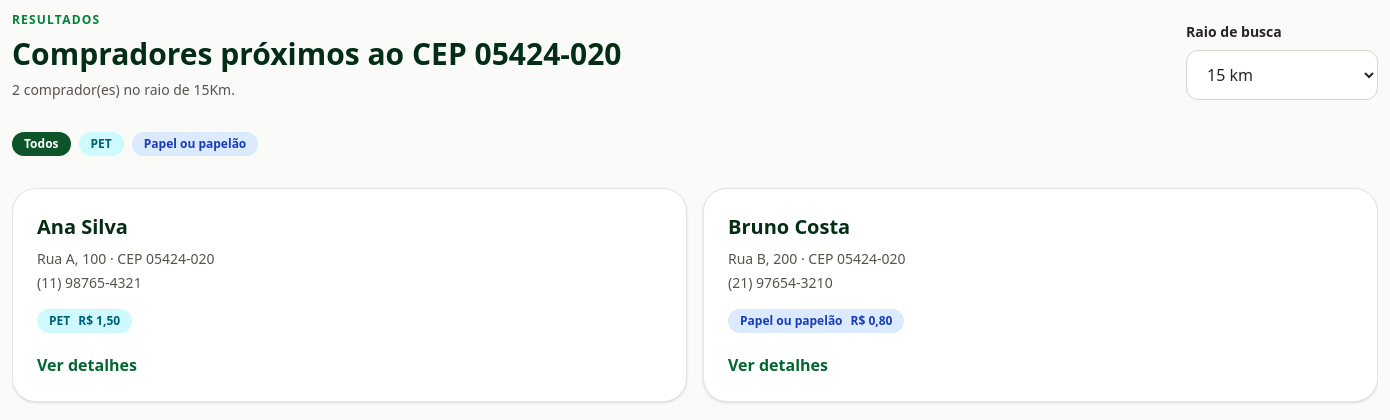
Scenario: ResultsPage › lista compradores e filtra por material
Expected: the heading "Ana Silva" is shown, [37,213,128,240]
Expected: the heading "Bruno Costa" is shown, [728,213,850,240]
Click the button "PET" at (101, 144), box [78,132,124,156]
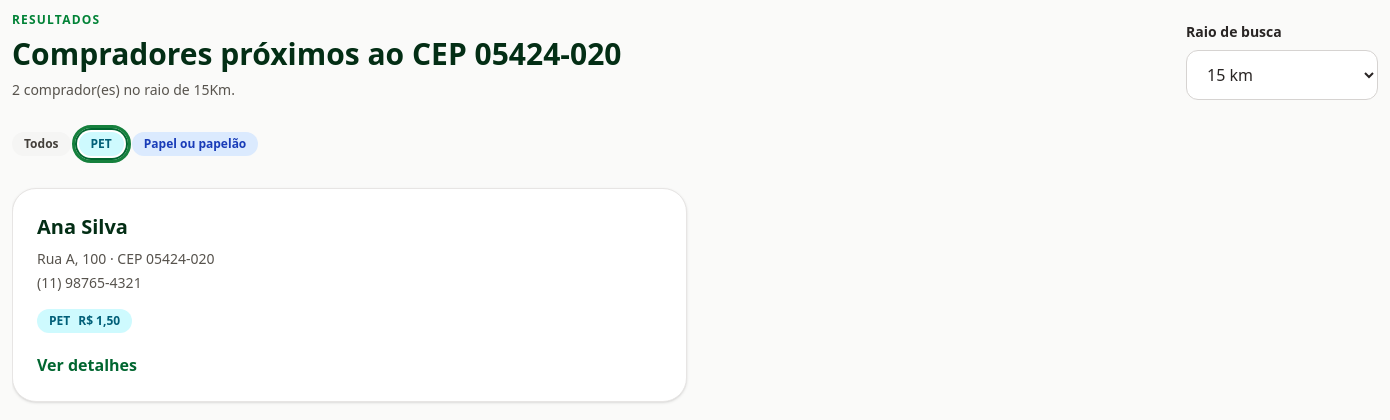
Expected: the heading "Ana Silva" is shown, [37,213,128,240]
Now the heading "Bruno Costa" is gone
